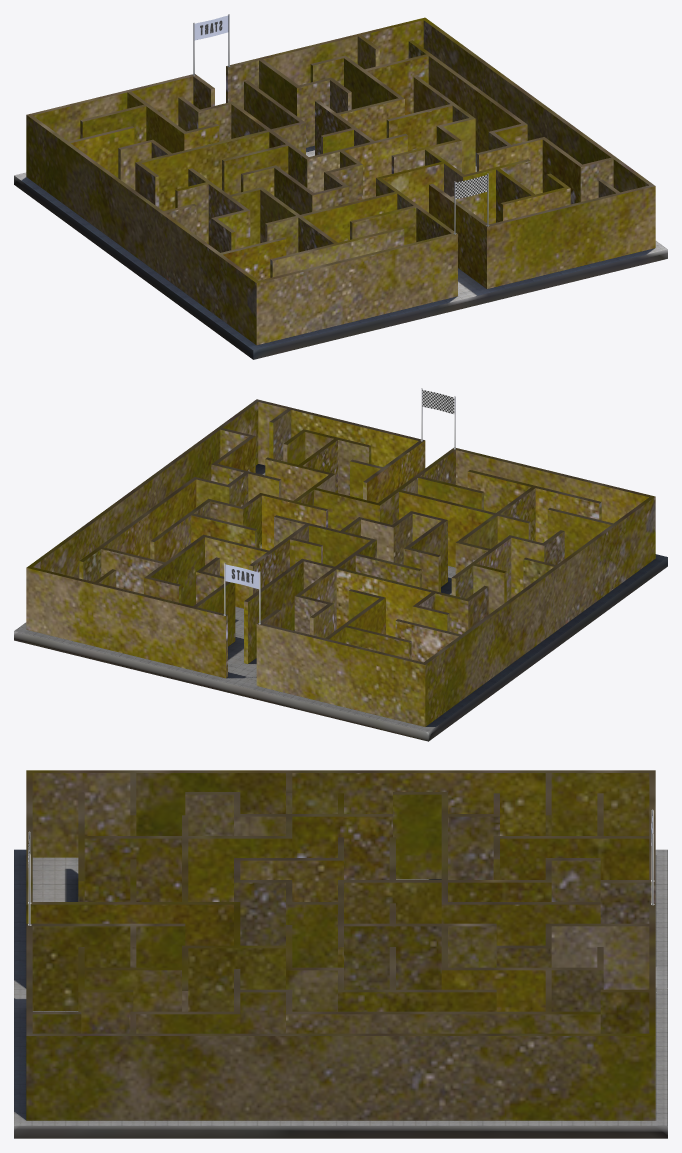
Rendered from labyrinth_mirtebotman.fbx.
The picture shows the model from 3 angles, top to bottom: view 1: azimuth 30°, elevation 25°; view 2: azimuth 150°, elevation 25°; view 3: azimuth 270°, elevation 25°; orthographic projection. The views are drawn at different scales.
Parts seen in each view (by area): view 1: obj3, obj1, obj2; view 2: obj3, obj1, obj2; view 3: obj3, obj1, obj2.
Boxes of the visible parts, box(x1,y1,x2,y2) form: obj3: box(26, 17, 655, 345); obj1: box(14, 145, 667, 359); obj2: box(192, 14, 489, 234); obj3: box(26, 399, 655, 726); obj1: box(14, 464, 667, 741); obj2: box(223, 388, 455, 624); obj3: box(26, 770, 655, 1120); obj1: box(14, 849, 667, 1138); obj2: box(28, 809, 654, 925).
Size of the model in its own units: 2100 by 597 by 2100.
3 materials, 3 textured.
